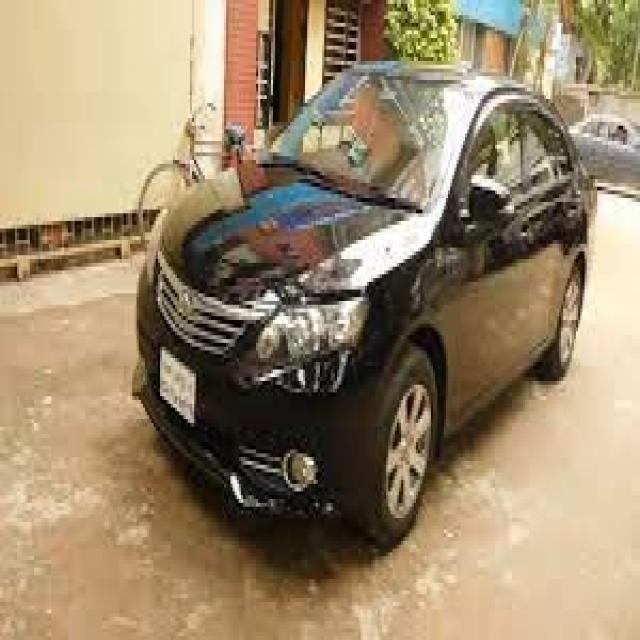black: (134, 63, 596, 546)
